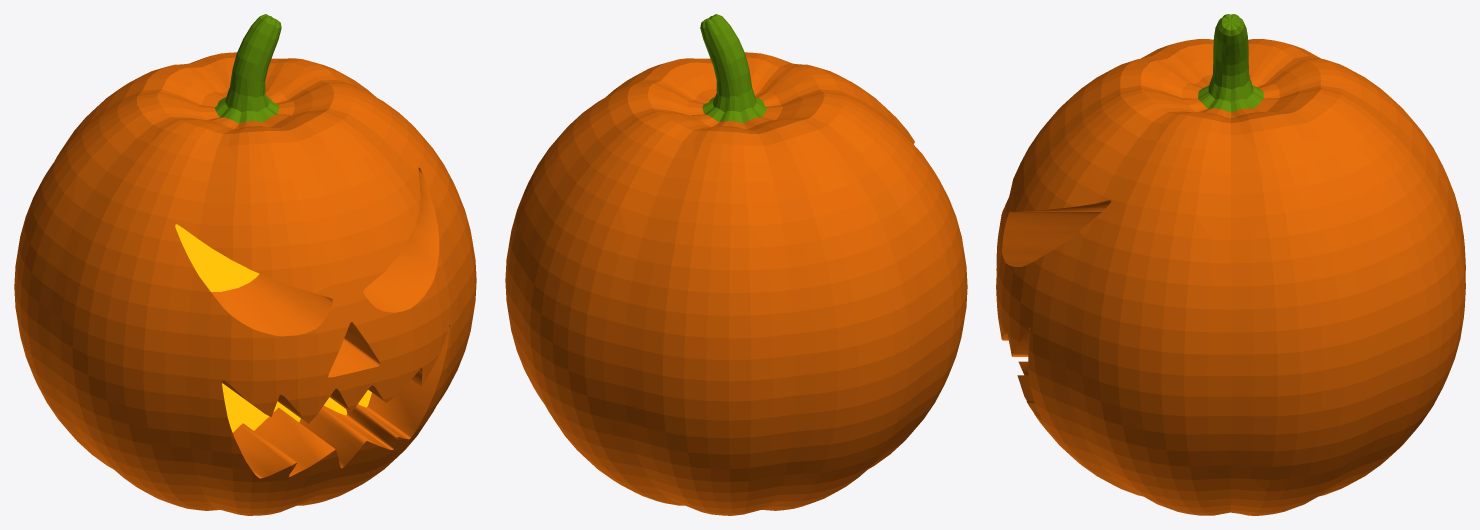
Rendered from pumpkin2.glb.
The picture shows the model from 3 angles, left to right: view 1: azimuth 30°, elevation 25°; view 2: azimuth 150°, elevation 25°; view 3: azimuth 270°, elevation 25°; orthographic projection. The views are drawn at different scales.
Visible parts, largest first — view 1: Sphere; view 2: Sphere; view 3: Sphere.
Part boxes in pixels (<box>): Sphere: <box>14,14,476,515</box>; Sphere: <box>505,14,967,515</box>; Sphere: <box>996,14,1465,515</box>.
Bounding box in the file's own units: 0.4417 × 0.5052 × 0.4416.
